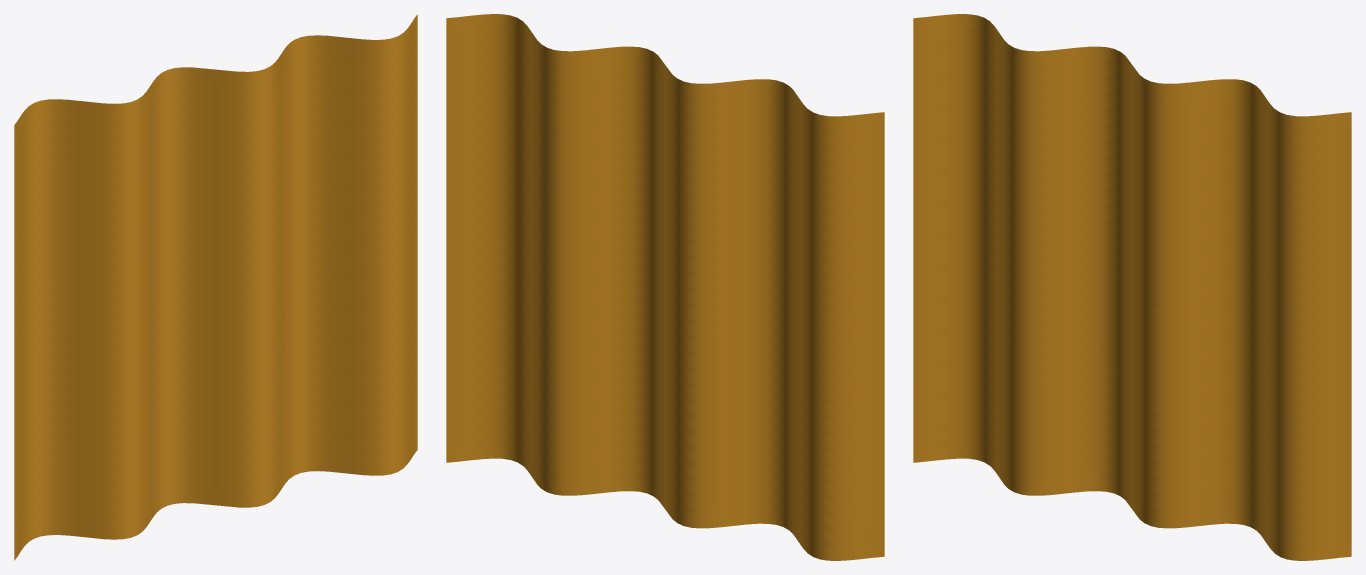
File: ohforfeckssake.obj
3 views of the same model, side by side, from view 1: azimuth 30°, elevation 25°; view 2: azimuth 150°, elevation 25°; view 3: azimuth 330°, elevation 25° (orthographic). The views are drawn at different scales.
Bounding box in the file's own units: 20 × 20 × 2.
